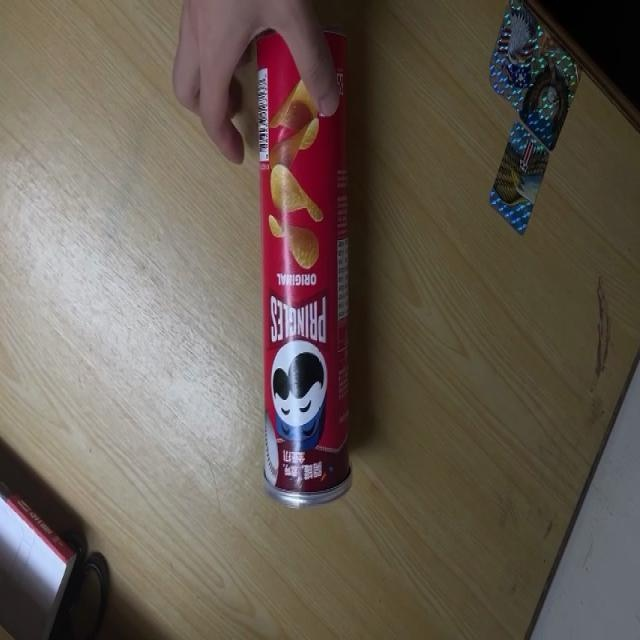Pringles: (254, 18, 354, 511)
